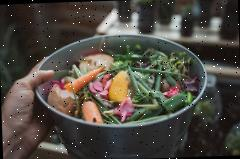organic: (48, 80, 80, 118), (110, 70, 132, 110), (82, 98, 108, 130)
